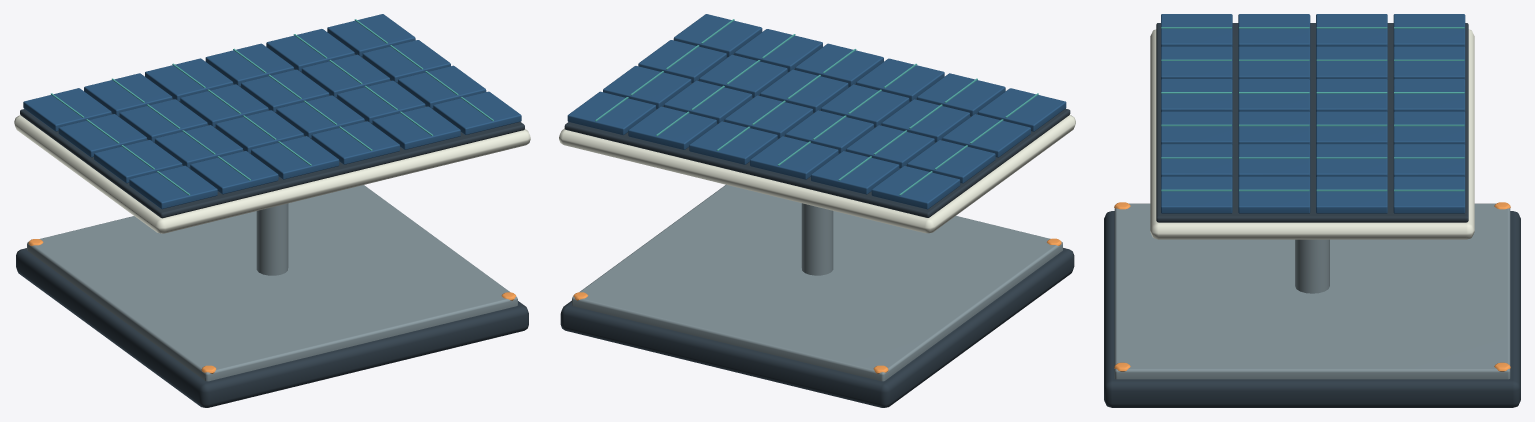
File: solar.glb
The picture shows the model from 3 angles, left to right: view 1: azimuth 30°, elevation 25°; view 2: azimuth 150°, elevation 25°; view 3: azimuth 270°, elevation 25°; orthographic projection. The views are drawn at different scales.
Visible parts, largest first — view 1: Inset apron, Photovoltaic cell, Foundation graphite, Panel frame, Cell electrode; view 2: Inset apron, Photovoltaic cell, Foundation graphite, Panel frame, Cell electrode; view 3: Inset apron, Photovoltaic cell, Foundation graphite, Panel frame, Cell electrode, Foundation anchor.
Part boxes in pixels (left/top/right/bottom): Inset apron: left=27, top=185, right=517, bottom=381; Photovoltaic cell: left=23, top=14, right=521, bottom=209; Foundation graphite: left=16, top=54, right=528, bottom=407; Panel frame: left=14, top=115, right=530, bottom=233; Cell electrode: left=51, top=19, right=493, bottom=195; Inset apron: left=572, top=184, right=1062, bottom=381; Photovoltaic cell: left=567, top=14, right=1066, bottom=209; Foundation graphite: left=560, top=54, right=1074, bottom=407; Panel frame: left=559, top=115, right=1075, bottom=233; Cell electrode: left=595, top=19, right=1038, bottom=195; Inset apron: left=1114, top=203, right=1510, bottom=379; Photovoltaic cell: left=1161, top=14, right=1465, bottom=213; Foundation graphite: left=1104, top=23, right=1520, bottom=407; Panel frame: left=1150, top=29, right=1474, bottom=239; Cell electrode: left=1161, top=27, right=1464, bottom=191; Foundation anchor: left=1114, top=202, right=1510, bottom=371.
Bounding box in the file's own units: 4.1 × 2.04 × 3.6.
